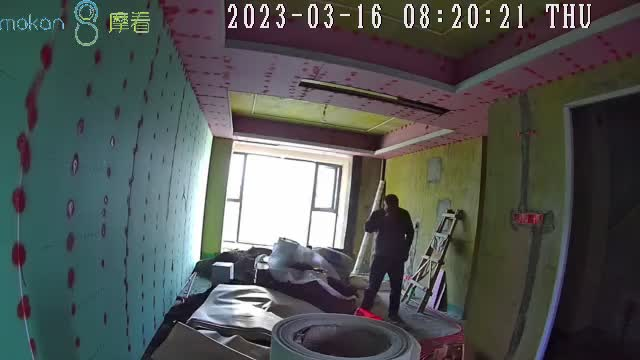people: (364, 194, 413, 322)
window: (222, 150, 342, 251)
